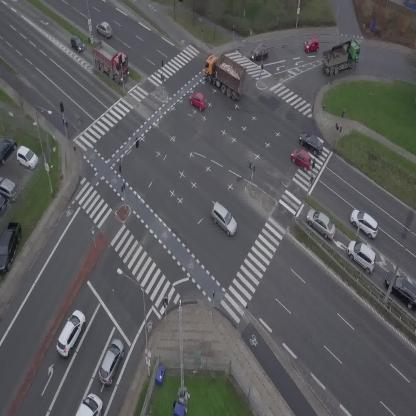car: (51, 307, 90, 358), (94, 336, 128, 387), (342, 236, 383, 275), (301, 205, 341, 242), (346, 205, 384, 241), (206, 201, 242, 237), (296, 129, 327, 157), (287, 145, 316, 172), (187, 89, 210, 112), (66, 33, 87, 55), (94, 19, 116, 40), (250, 46, 269, 61), (304, 38, 320, 52)
lorry: (195, 48, 254, 102), (83, 35, 137, 86), (318, 37, 367, 77), (75, 393, 102, 416)
